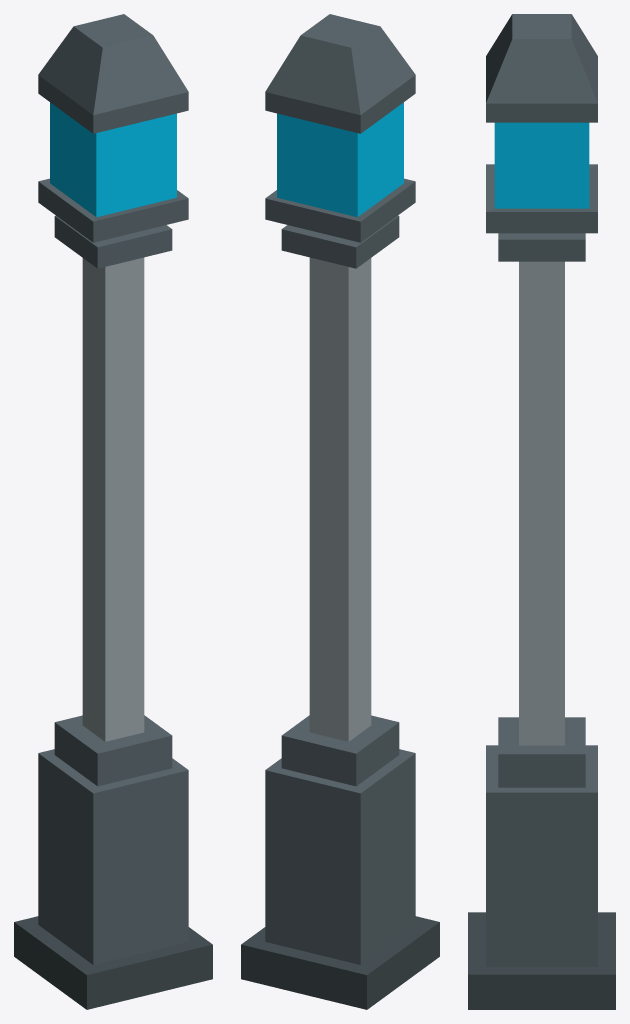
File: Lamp 01 Blue.FBX
3 views of the same model, side by side, from view 1: azimuth 30°, elevation 25°; view 2: azimuth 150°, elevation 25°; view 3: azimuth 270°, elevation 25° (orthographic).
Visible parts, largest first — view 1: Lamp 01 Blue; view 2: Lamp 01 Blue; view 3: Lamp 01 Blue.
Boxes of the visible parts, x1,y1,x2,y2 form: Lamp 01 Blue: (14,14,212,1009); Lamp 01 Blue: (241,14,439,1009); Lamp 01 Blue: (468,14,615,1009).
Size of the model in its own units: 35.69 by 254 by 35.69.
